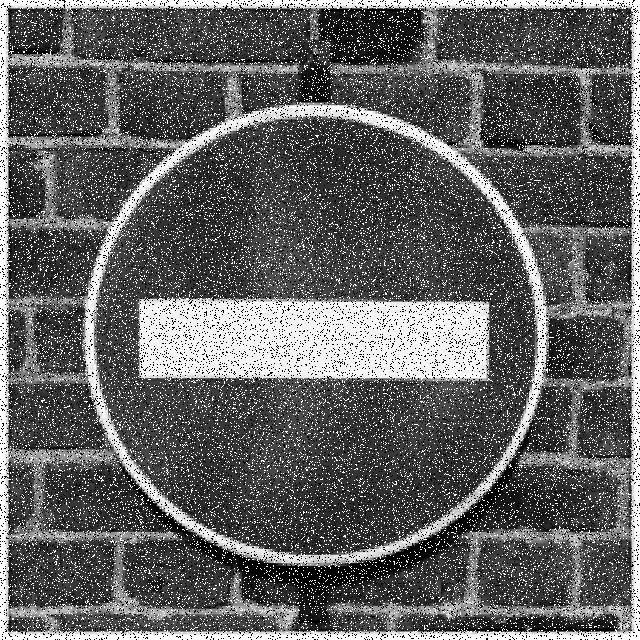no entry: (85, 100, 549, 563)
